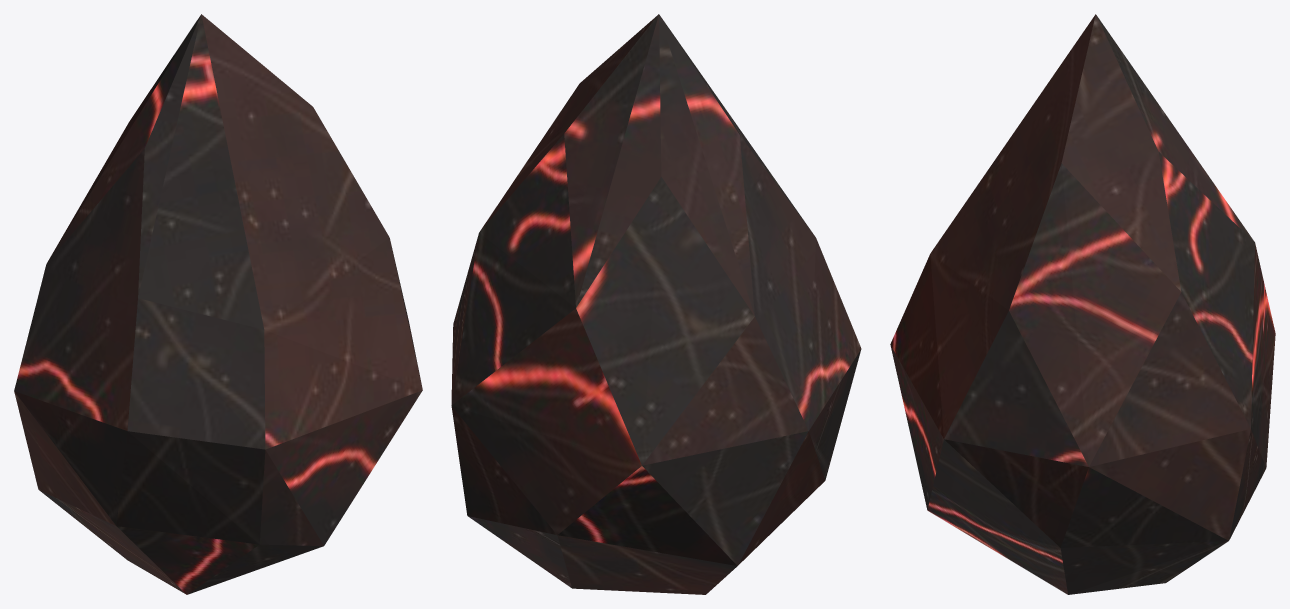
File: stone.glb
3 renders of one model, left to right at view 1: azimuth 30°, elevation 25°; view 2: azimuth 150°, elevation 25°; view 3: azimuth 270°, elevation 25°, orthographic. The views are drawn at different scales.
Visible parts, largest first — view 1: Shining Trapezohedron; view 2: Shining Trapezohedron; view 3: Shining Trapezohedron.
Boxes of the visible parts, x1,y1,x2,y2 form: Shining Trapezohedron: (14,14,422,594); Shining Trapezohedron: (451,14,861,594); Shining Trapezohedron: (890,14,1275,594).
Size of the model in its own units: 0.07 by 0.1 by 0.0632.
Materials: 1 (1 with a texture image).
